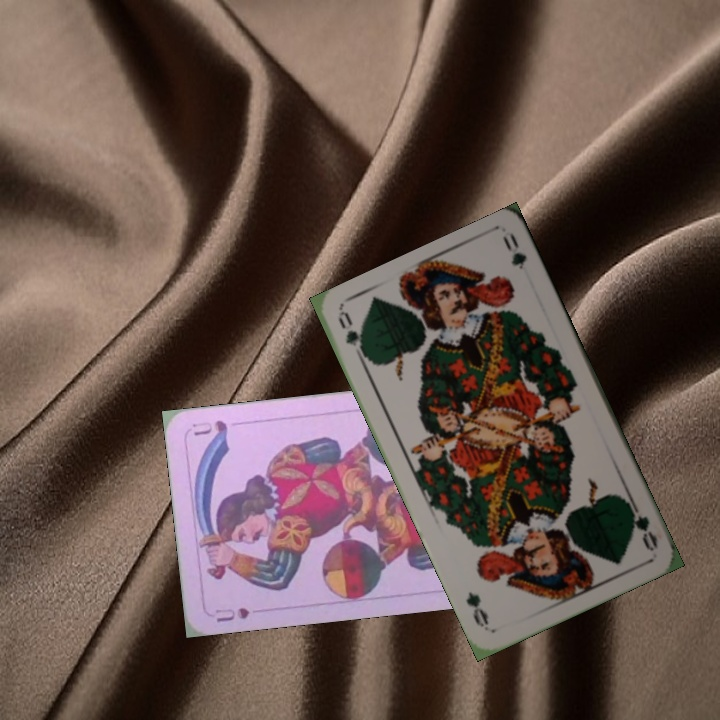GO: (334, 308, 374, 366), (622, 495, 660, 553)
SU: (211, 603, 252, 625)
